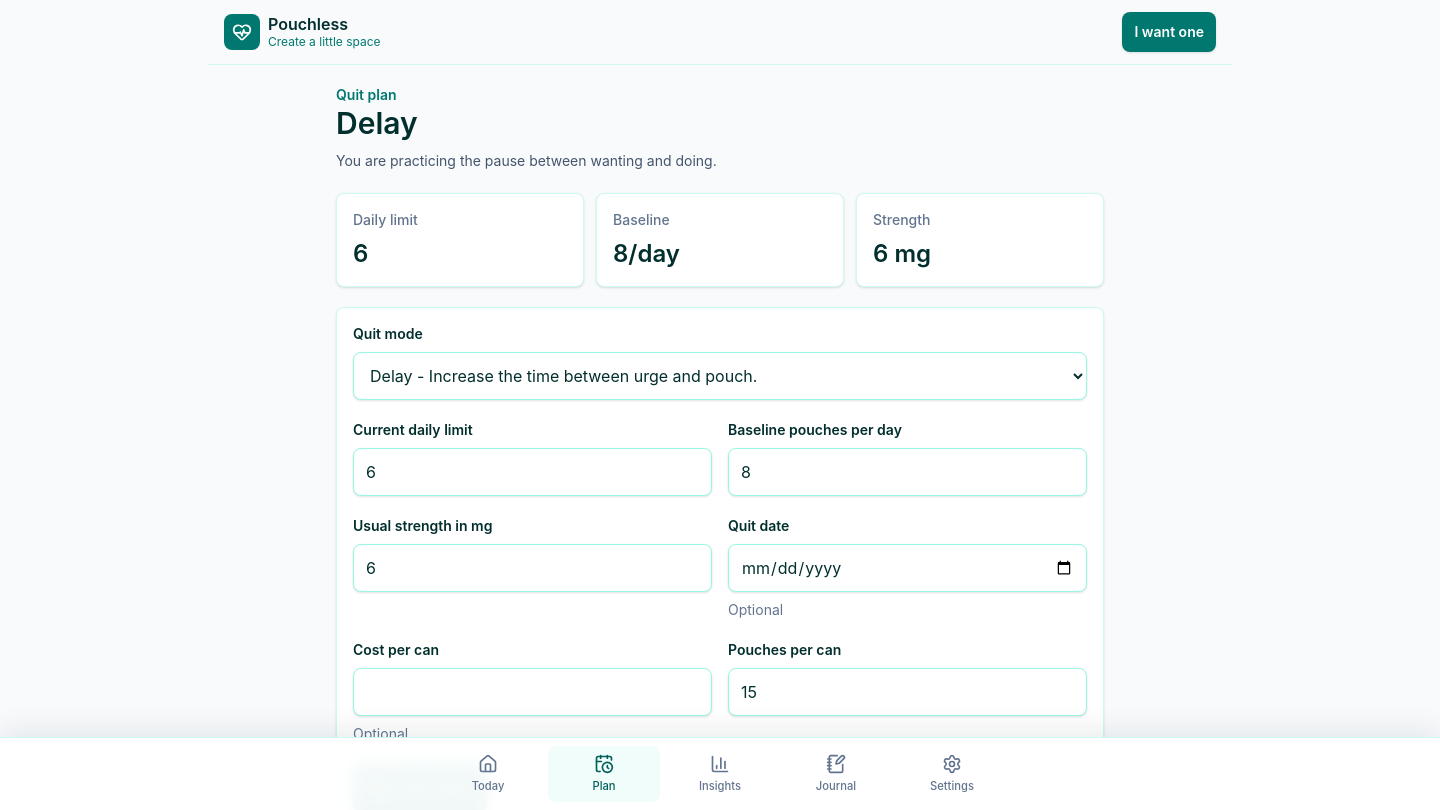
Test: Pouchless app flows › saves plan edits
Check: the text "Quit plan" is shown, box x1=336 y1=86 x2=396 y2=103
Replace the text in the number field labelled "Current daily limit" with "3" at (532, 472), box x1=353 y1=448 x2=712 y2=496
(page scrolled)
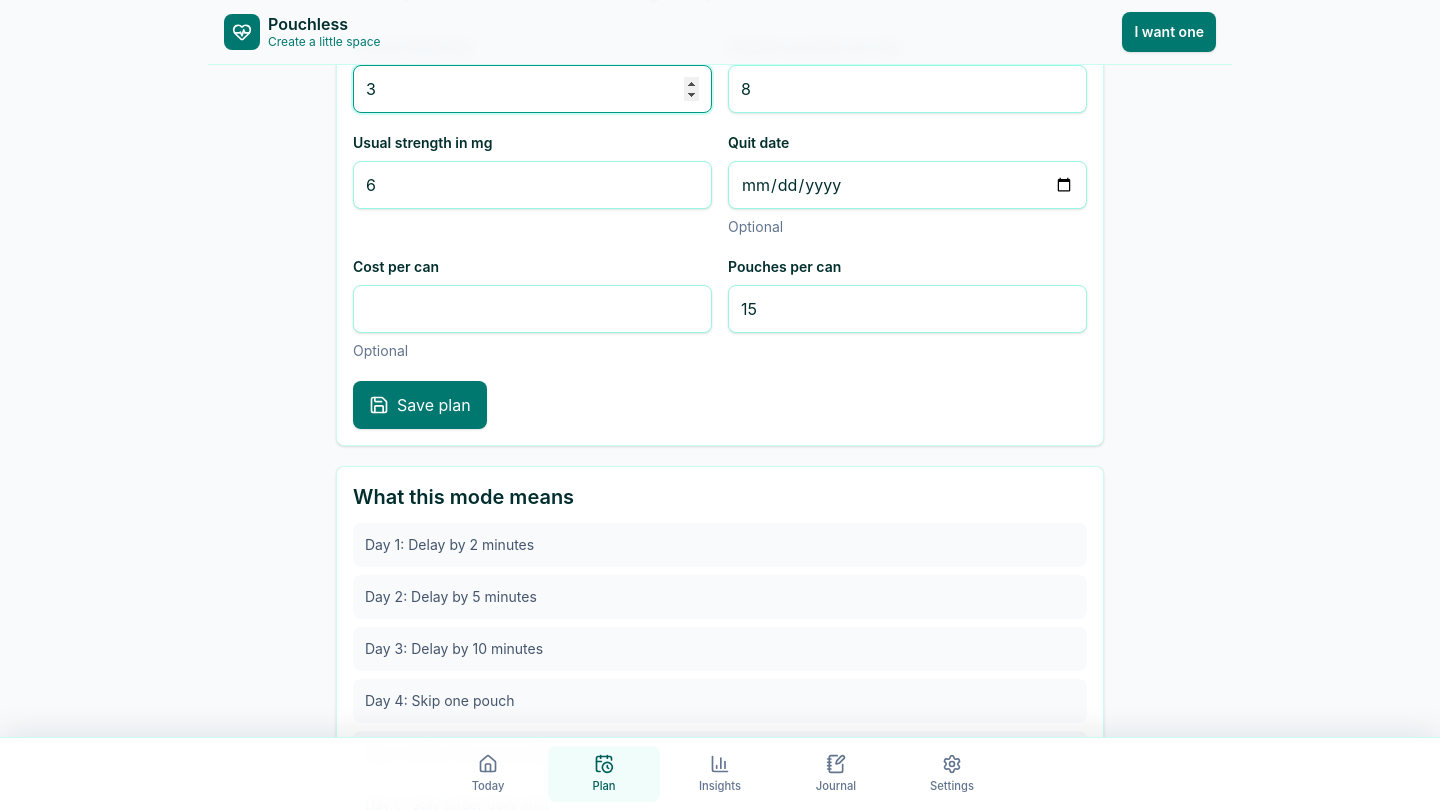
Click the button "Save plan".
click(420, 405)  # box x1=353 y1=381 x2=487 y2=429
(page scrolled)
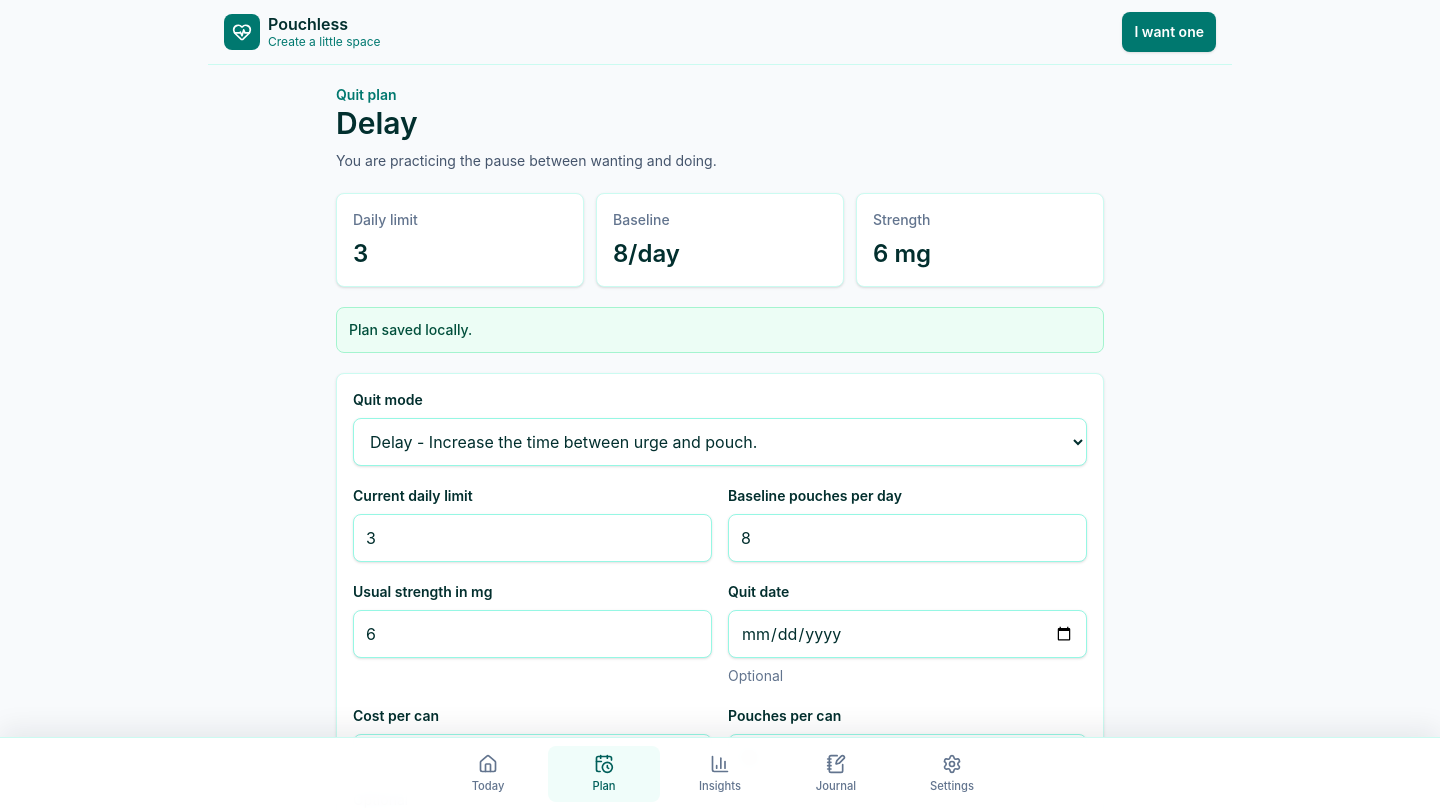
Check: the text "Plan saved locally." is shown, box x1=336 y1=307 x2=1104 y2=353
